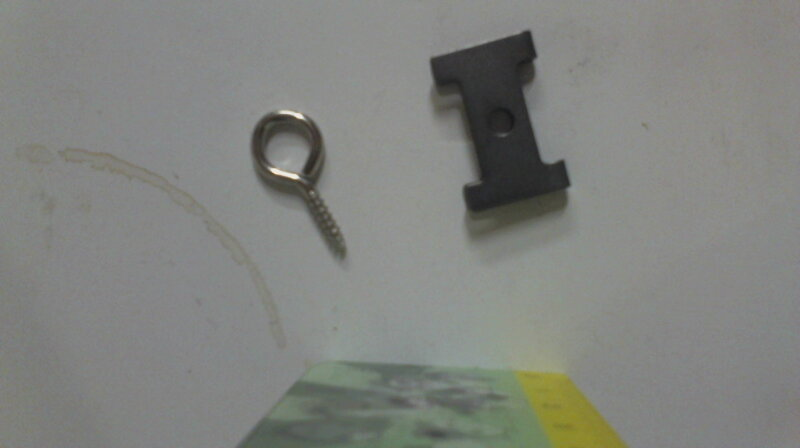O001: (245, 103, 353, 264)
O002: (426, 27, 574, 215)
